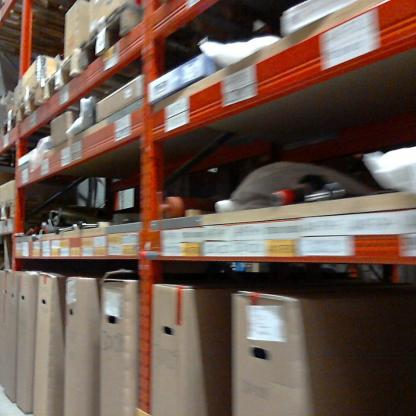pallet: (80, 7, 271, 98), (44, 38, 172, 121), (20, 83, 123, 133), (2, 102, 76, 145)
